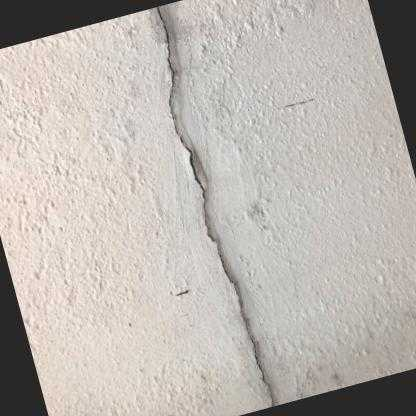crack: (157, 6, 273, 406)
